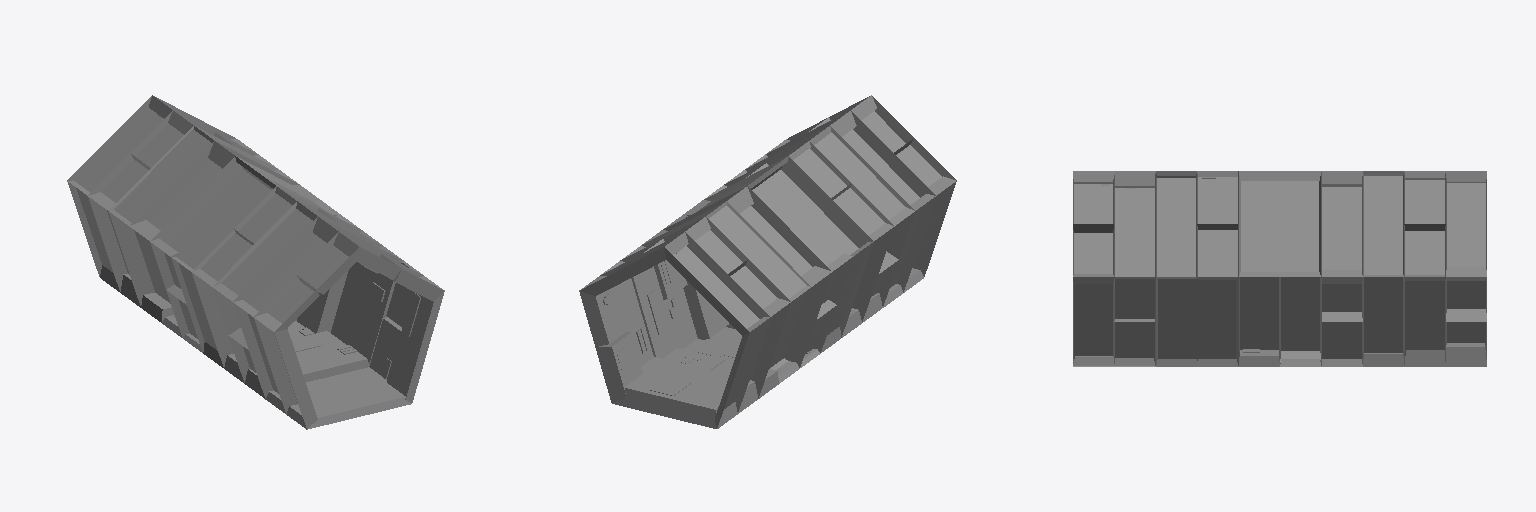
File: tunnel01.obj
The picture shows the model from 3 angles: view 1: azimuth 30°, elevation 25°; view 2: azimuth 150°, elevation 25°; view 3: azimuth 270°, elevation 25°; orthographic projection.
Visible parts, largest first — view 1: Tube001; view 2: Tube001; view 3: Tube001.
Part boxes in pixels (left/top/right/bottom): Tube001: left=67, top=95, right=444, bottom=429; Tube001: left=579, top=95, right=956, bottom=428; Tube001: left=1073, top=171, right=1486, bottom=366.
Bounding box in the file's own units: 95.11 × 90.59 × 200.